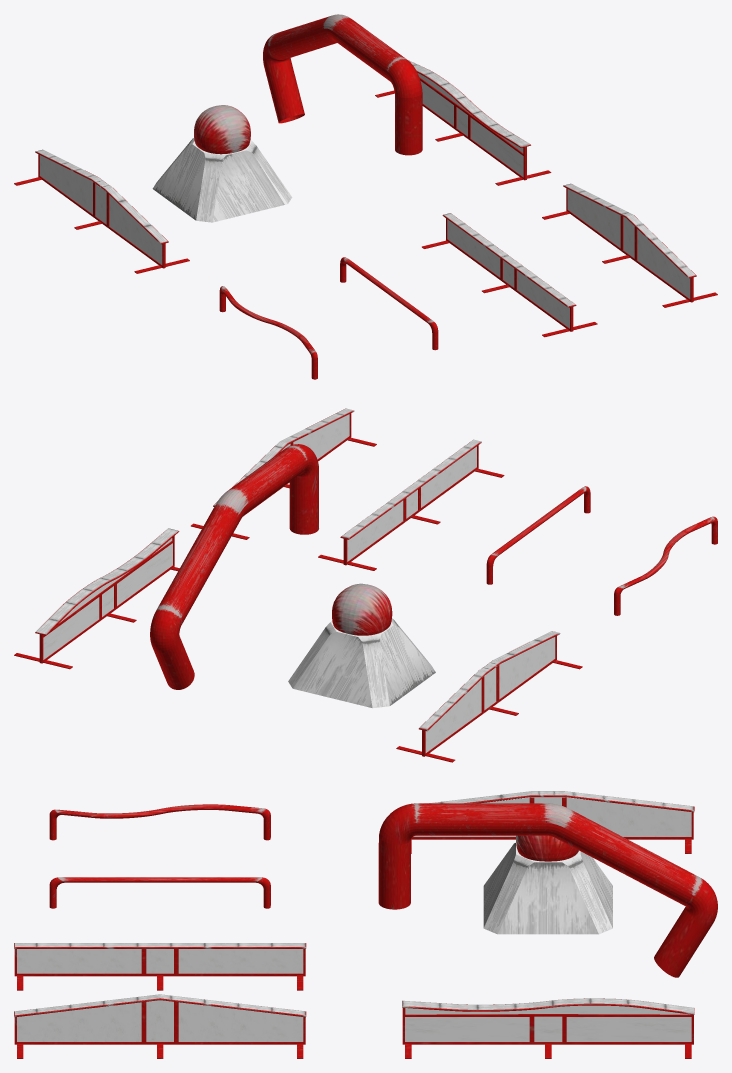
Rendered from snowpark.glb.
3 renders of one model, top to bottom at view 1: azimuth 30°, elevation 25°; view 2: azimuth 150°, elevation 25°; view 3: azimuth 270°, elevation 25°, orthographic. The views are drawn at different scales.
Parts seen in each view (by area): view 1: sp_bonk, sp_kink, sp_aframe, sp_aflat, sp_rainbow, sp_press, sp_srail, sp_rail; view 2: sp_bonk, sp_kink, sp_rainbow, sp_aflat, sp_press, sp_aframe, sp_srail, sp_rail; view 3: sp_kink, sp_rainbow, sp_aframe, sp_bonk, sp_press, sp_aflat, sp_srail, sp_rail.
Part boxes in pixels (x1=…): sp_bonk: x1=152, y1=105, x2=292, y2=222; sp_kink: x1=263, y1=14, x2=422, y2=155; sp_aframe: x1=542, y1=183, x2=717, y2=307; sp_aflat: x1=14, y1=149, x2=189, y2=273; sp_rainbow: x1=375, y1=60, x2=551, y2=185; sp_press: x1=422, y1=213, x2=597, y2=337; sp_srail: x1=219, y1=286, x2=317, y2=379; sp_rail: x1=340, y1=257, x2=438, y2=350; sp_bonk: x1=288, y1=583, x2=435, y2=708; sp_kink: x1=150, y1=444, x2=318, y2=689; sp_rainbow: x1=14, y1=528, x2=179, y2=669; sp_aflat: x1=396, y1=631, x2=582, y2=762; sp_press: x1=318, y1=439, x2=504, y2=570; sp_aframe: x1=191, y1=408, x2=376, y2=539; sp_srail: x1=614, y1=516, x2=717, y2=615; sp_rail: x1=486, y1=486, x2=590, y2=584; sp_kink: x1=378, y1=803, x2=717, y2=977; sp_rainbow: x1=402, y1=998, x2=694, y2=1058; sp_aframe: x1=14, y1=994, x2=306, y2=1058; sp_bonk: x1=483, y1=835, x2=612, y2=934; sp_press: x1=14, y1=943, x2=306, y2=990; sp_aflat: x1=411, y1=791, x2=694, y2=853; sp_srail: x1=49, y1=804, x2=270, y2=840; sp_rail: x1=49, y1=877, x2=270, y2=908.
Size of the model in its own units: 17.2 by 5.82 by 21.77.
Materials: 1 (1 with a texture image).
